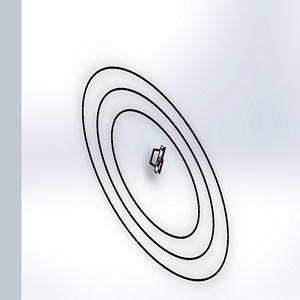circle: (62, 61, 239, 287)
submarine: (140, 140, 171, 182)
